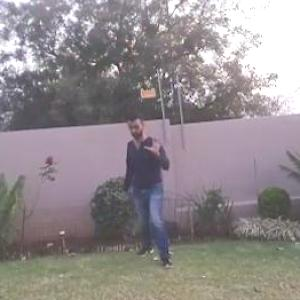follow_hand: (143, 129, 166, 158)
